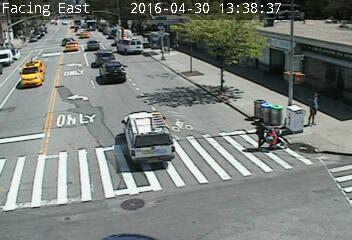neg: (178, 52, 201, 83), (126, 111, 147, 139), (32, 56, 48, 77), (94, 36, 108, 56)
pos: (245, 113, 279, 159), (296, 88, 325, 127)
